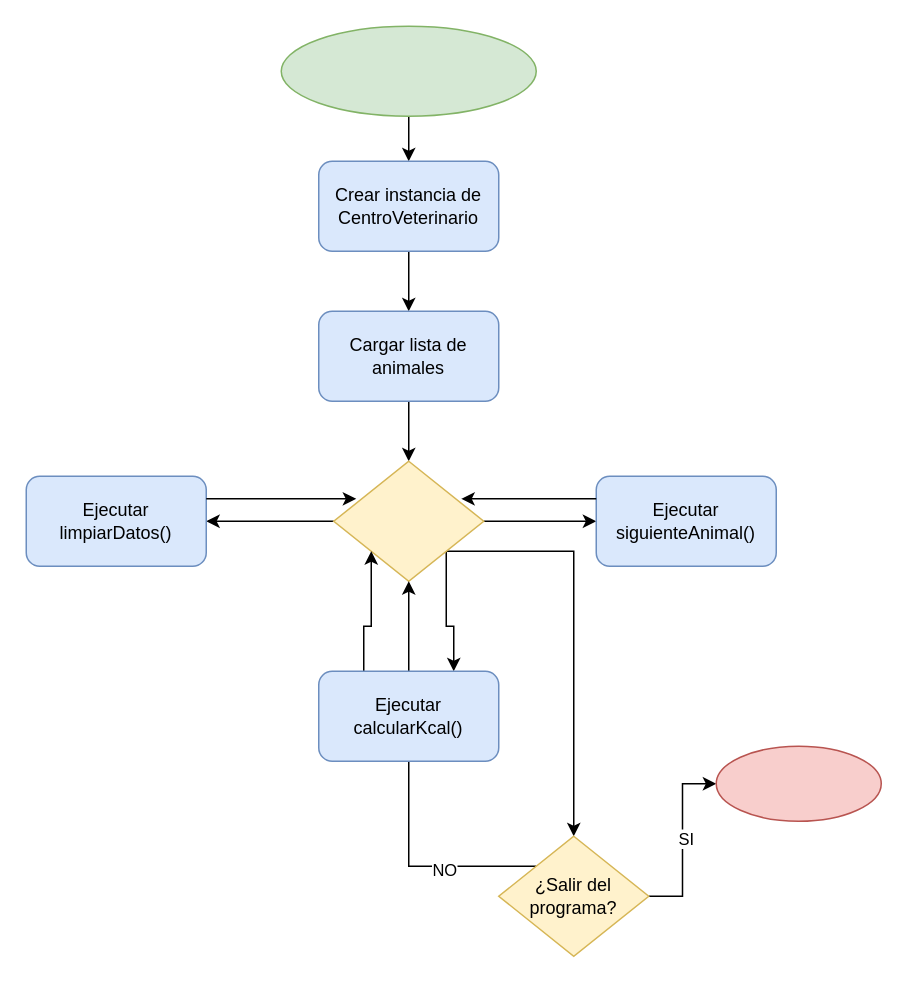
This 908x983 diagram has some shape labels left out. Here are the shapes that lost their labels. From the top down, the centre of each, then its label:
the point at 408,70: INICIO
the point at 408,520: ¿Qué desea realizar?
the point at 798,783: FIN
